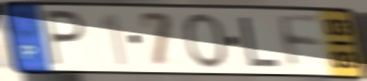1: (100, 12, 128, 67)
7: (138, 10, 179, 70)
F: (275, 12, 326, 72)
L: (239, 15, 283, 69)
O: (181, 12, 231, 71)
P: (42, 8, 88, 69)
